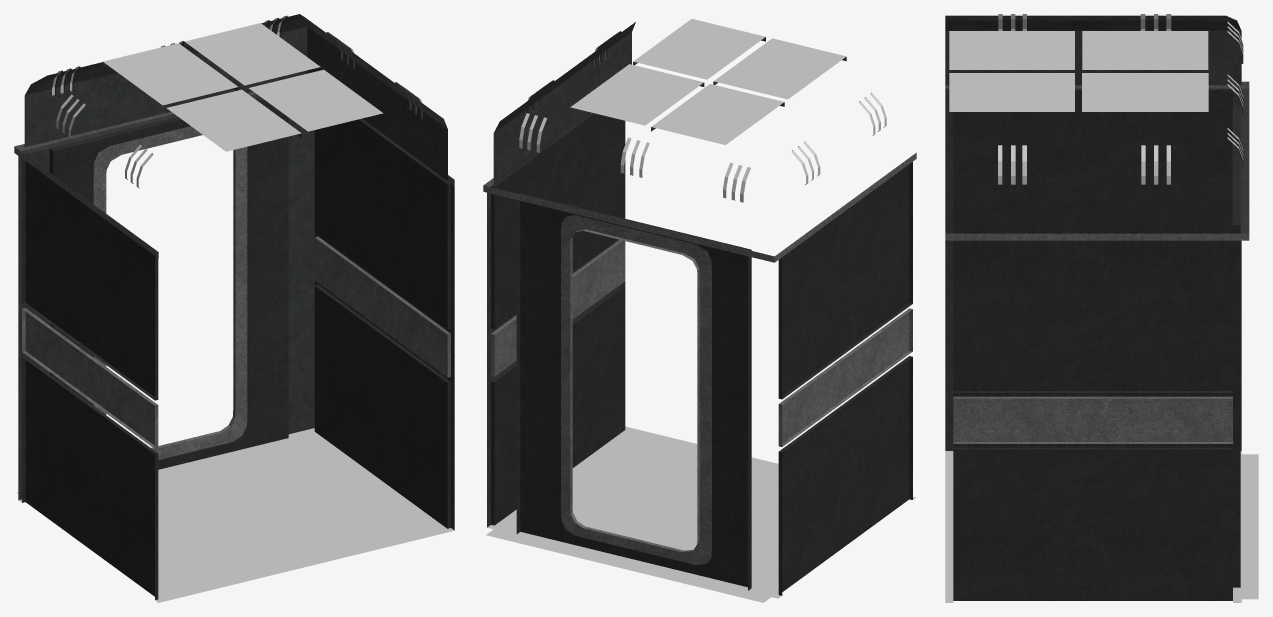
The model's file is EndCapDoor.fbx.
3 views of the same model, side by side, from view 1: azimuth 30°, elevation 25°; view 2: azimuth 150°, elevation 25°; view 3: azimuth 270°, elevation 25° (orthographic). The views are drawn at different scales.
Visible parts, largest first — view 1: Cube.033, Cube.035, Cube.001, Cube.034, Cube.032; view 2: Cube.033, Cube.034, Cube.035, Cube.032, Cube.001; view 3: Cube.033, Cube.032, Cube.034, Cube.001, Cube.035.
Part boxes in pixels (bbox=[...]): Cube.033: bbox=[22, 97, 450, 599]; Cube.035: bbox=[17, 428, 454, 602]; Cube.001: bbox=[18, 14, 454, 530]; Cube.034: bbox=[14, 92, 454, 459]; Cube.032: bbox=[52, 15, 421, 187]; Cube.033: bbox=[491, 112, 912, 595]; Cube.034: bbox=[483, 152, 916, 564]; Cube.035: bbox=[486, 426, 916, 602]; Cube.032: bbox=[519, 19, 886, 202]; Cube.001: bbox=[487, 22, 884, 527]; Cube.033: bbox=[953, 88, 1240, 600]; Cube.032: bbox=[949, 14, 1243, 184]; Cube.034: bbox=[945, 81, 1249, 443]; Cube.001: bbox=[945, 15, 1249, 450]; Cube.035: bbox=[945, 451, 1258, 602].
Size of the model in its own units: 786 by 1098 by 684.
